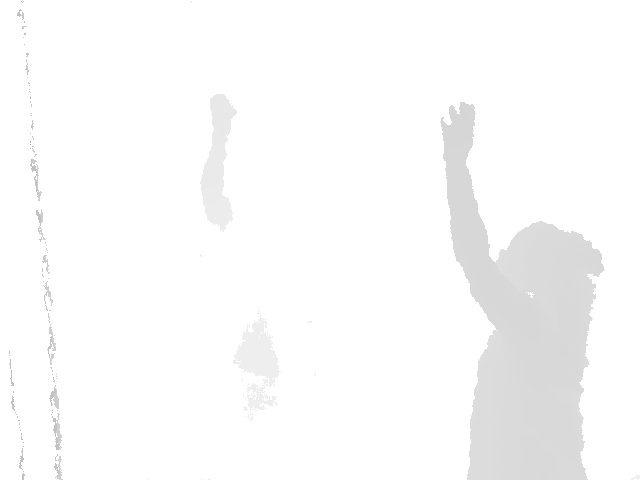hand: (439, 101, 476, 161)
head: (491, 220, 606, 313)
person: (439, 101, 606, 480)
